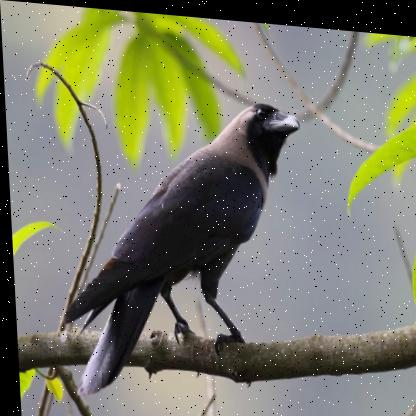Burung: (51, 84, 312, 410)
